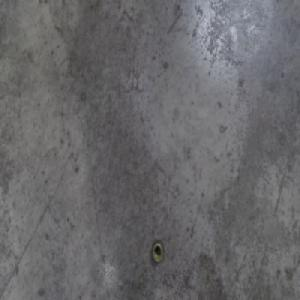Nut: (151, 239, 163, 265)
